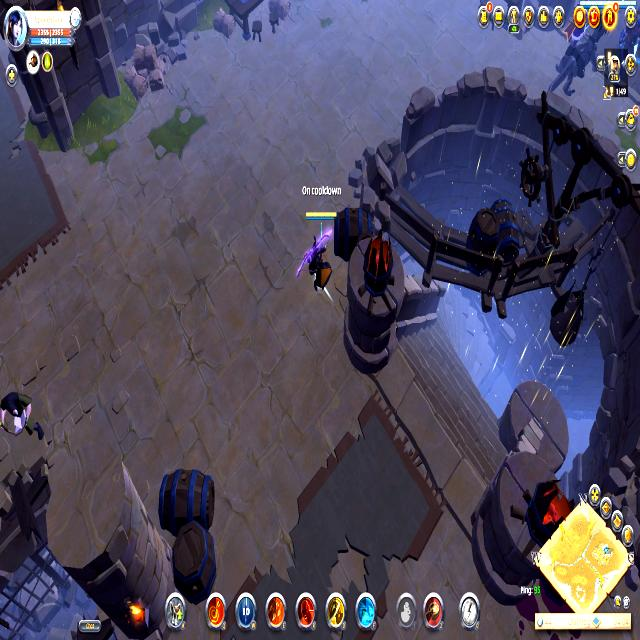ore: (0, 370, 54, 457)
red: (295, 205, 340, 299)
